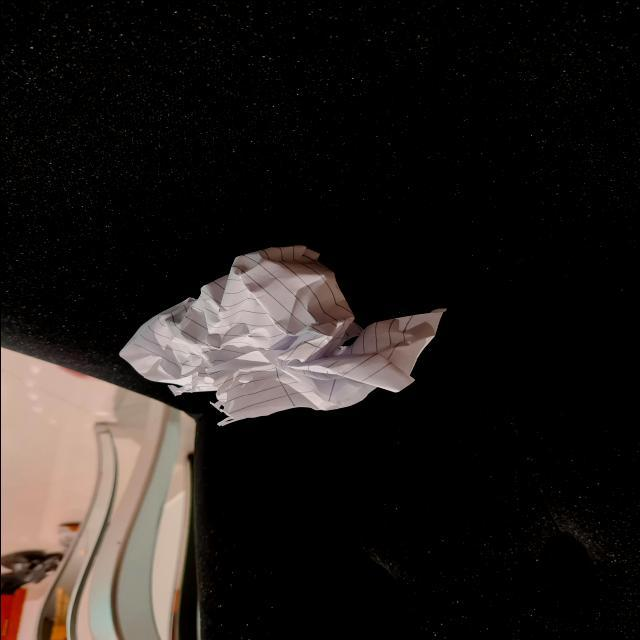Paper: (111, 244, 456, 438)
